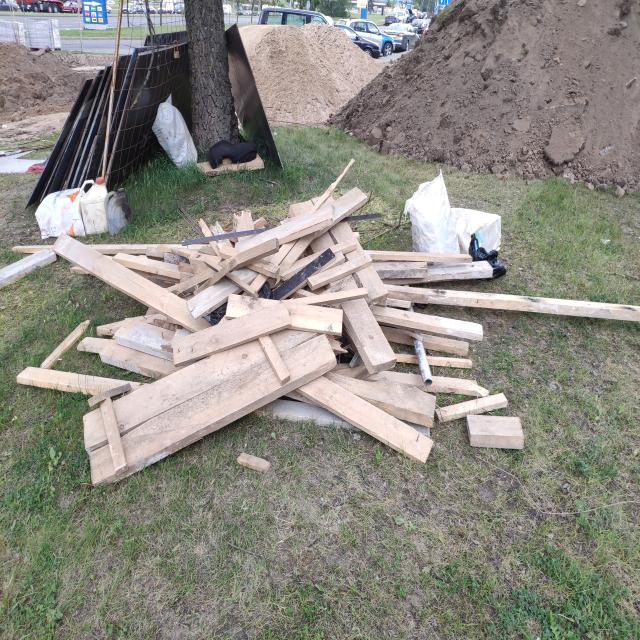entulho: (82, 332, 340, 488), (24, 54, 194, 203), (285, 361, 442, 465), (65, 245, 225, 332), (226, 214, 381, 300), (431, 290, 640, 322), (369, 299, 489, 346), (375, 241, 489, 288), (442, 395, 534, 452), (337, 299, 394, 374), (15, 367, 140, 398), (264, 212, 340, 247), (448, 207, 500, 256), (37, 322, 92, 367), (98, 396, 127, 477), (0, 249, 56, 289), (326, 187, 368, 223), (412, 328, 432, 387), (426, 377, 486, 396), (11, 246, 47, 254)
terra: (421, 2, 637, 194), (235, 25, 364, 132), (0, 45, 89, 117)
